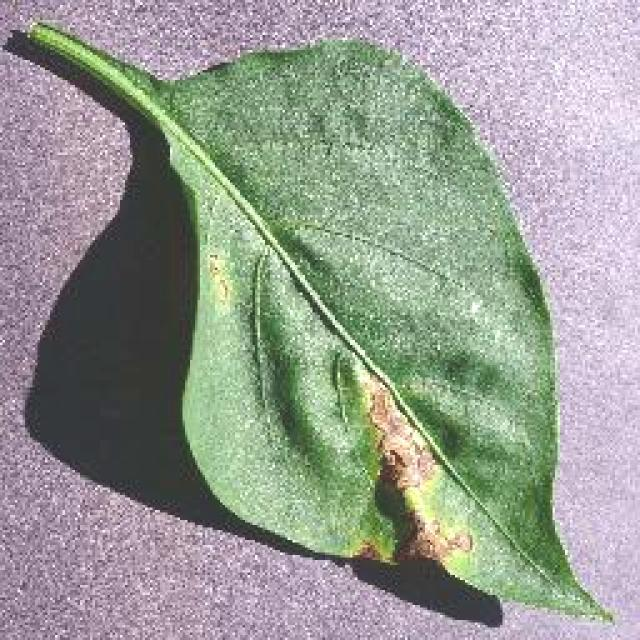Bercak Daun Serkospora: (0, 20, 615, 630)
